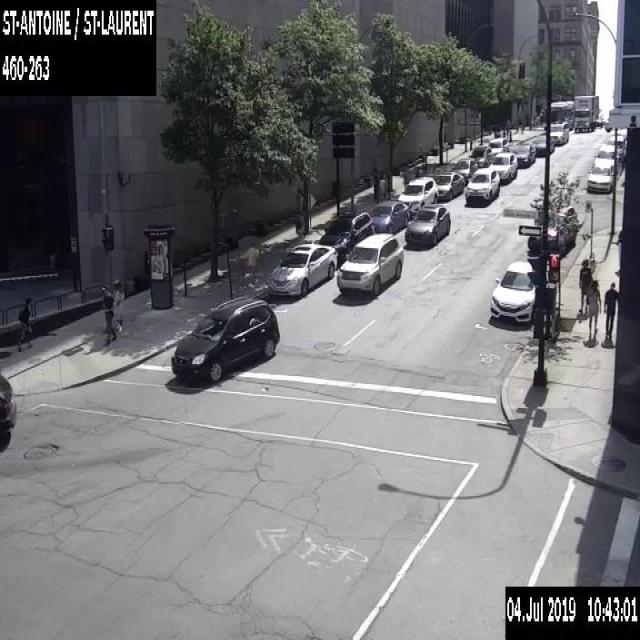bus: (549, 100, 573, 130)
pedestrian: (100, 284, 116, 345), (16, 295, 33, 352), (602, 280, 618, 340), (585, 278, 601, 338), (578, 256, 592, 313), (112, 277, 124, 331), (246, 242, 258, 286), (294, 210, 304, 242), (385, 166, 393, 200), (372, 165, 380, 198), (377, 173, 385, 201), (295, 186, 304, 209), (502, 127, 505, 136)
vehicle: (170, 294, 280, 381), (336, 231, 403, 295), (268, 242, 337, 297), (317, 210, 373, 268), (490, 259, 534, 320), (527, 204, 577, 250), (404, 203, 450, 245), (396, 176, 438, 218), (369, 199, 409, 234), (465, 166, 499, 205), (0, 370, 15, 452), (571, 94, 598, 131), (433, 170, 464, 200), (587, 157, 613, 192), (488, 152, 516, 182), (451, 157, 477, 185), (593, 143, 619, 169), (512, 141, 535, 167), (605, 134, 626, 161), (468, 146, 493, 166), (532, 134, 554, 155), (549, 119, 568, 143), (488, 137, 508, 157), (616, 125, 616, 127)
